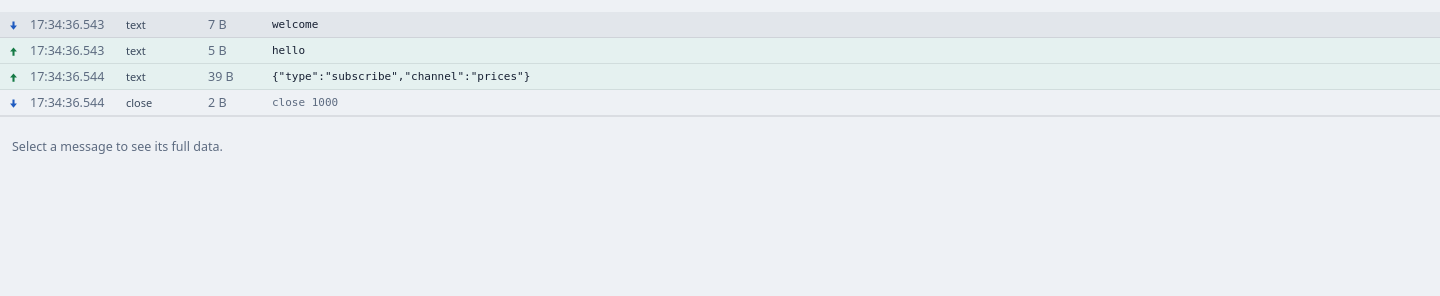
Test case: MessagesTab › lists frames with direction and shows full data
expect the element named "Received" in the row of "7 B" is shown: met, box [8, 20, 19, 31]
expect the element named "Sent" in the row of "5 B" is shown: met, box [8, 46, 19, 57]
Click the 3rd option. click: [67, 76]
box: [0, 64, 1439, 90]
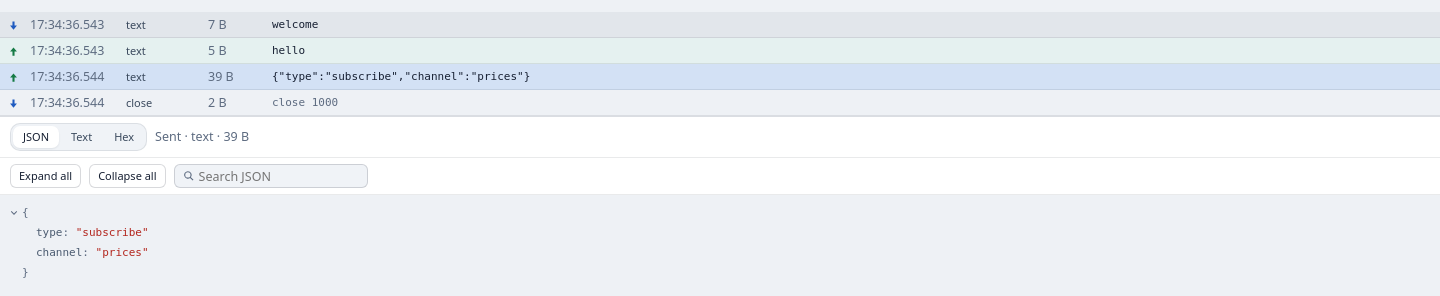
expect the element named "JSON" is shown: met, box [6, 203, 149, 279]
Click the button "Hex". click: [124, 137]
box: [104, 126, 144, 148]
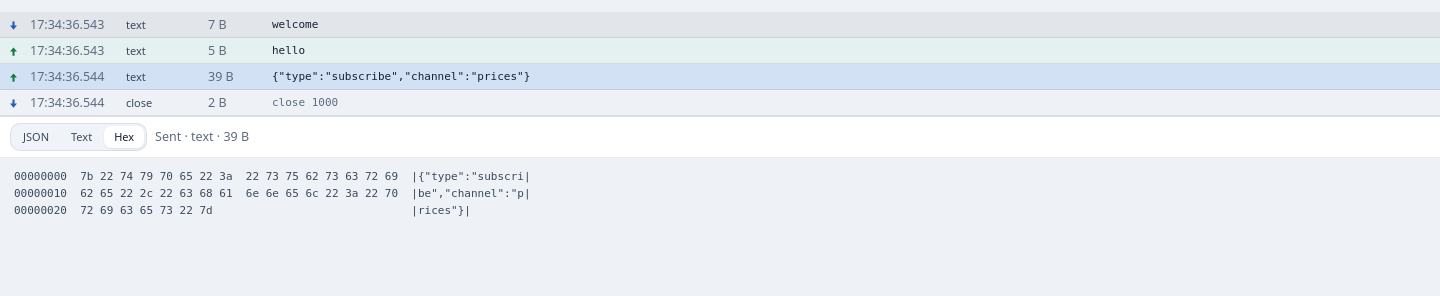
expect the text named "Hex dump" shows "7b 22 74 79": met, box [14, 170, 531, 217]
